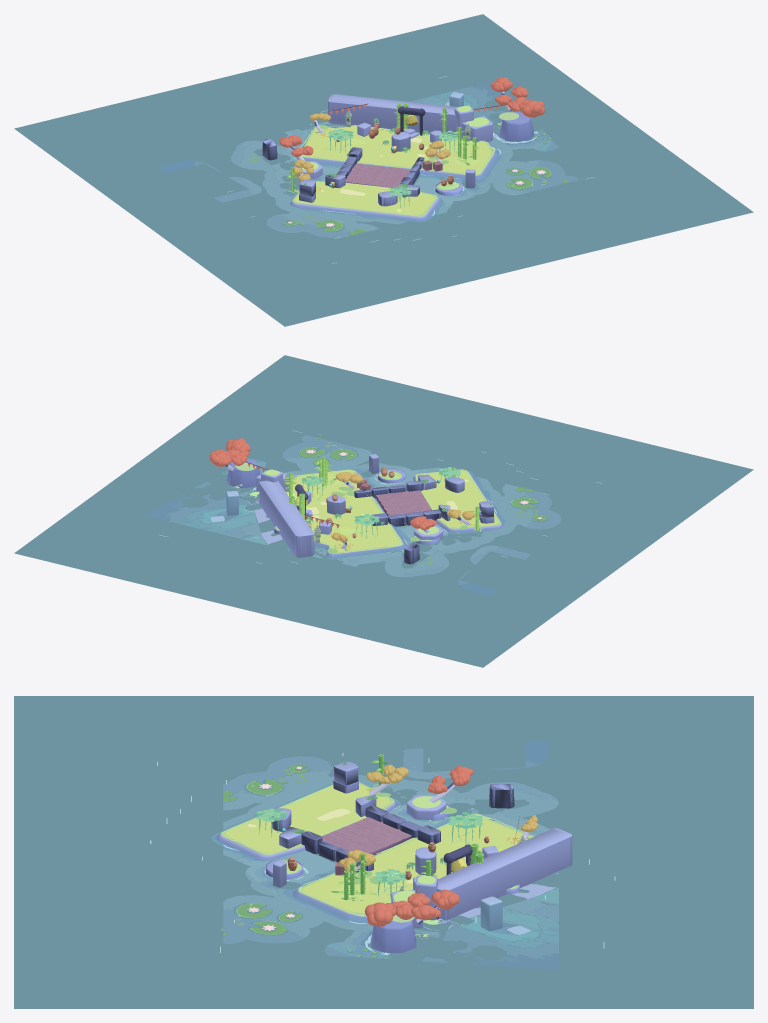
File: plaza.glb
The picture shows the model from 3 angles, top to bottom: view 1: azimuth 30°, elevation 25°; view 2: azimuth 150°, elevation 25°; view 3: azimuth 270°, elevation 25°; orthographic projection. The views are drawn at different scales.
Parts seen in each view (by area): view 1: FOUNTAIN_water, WATER_PAINT, LIME, NE_WALL, GRASS_PAINT, BRIDGE_seams, PADS_TRACED, FLANK_1, FLANK_4, ISLET_E; view 2: FOUNTAIN_water, WATER_PAINT, LIME, NE_WALL, GRASS_PAINT, BRIDGE_seams, PADS_TRACED, ISLET_E, FLANK_4; view 3: FOUNTAIN_water, WATER_PAINT, LIME, NE_WALL, PADS_TRACED, GRASS_PAINT, BRIDGE_seams, ISLET_E, CUBE_0, FLANK_1, FLANK_4, BOULDER_1 (+1 smaller).
Boxes of the visible parts, bbox=[...] form: FOUNTAIN_water: bbox=[14, 14, 753, 326]; WATER_PAINT: bbox=[158, 81, 579, 238]; LIME: bbox=[295, 126, 490, 215]; NE_WALL: bbox=[328, 94, 457, 135]; GRASS_PAINT: bbox=[252, 122, 567, 222]; BRIDGE_seams: bbox=[345, 163, 410, 188]; PADS_TRACED: bbox=[250, 130, 567, 235]; FLANK_1: bbox=[290, 197, 441, 220]; FLANK_4: bbox=[297, 127, 499, 180]; ISLET_E: bbox=[499, 112, 534, 141]; FOUNTAIN_water: bbox=[14, 355, 753, 667]; WATER_PAINT: bbox=[144, 434, 561, 595]; LIME: bbox=[286, 471, 497, 552]; NE_WALL: bbox=[259, 480, 314, 557]; GRASS_PAINT: bbox=[233, 434, 537, 561]; BRIDGE_seams: bbox=[376, 490, 431, 515]; PADS_TRACED: bbox=[223, 437, 546, 565]; ISLET_E: bbox=[226, 458, 259, 488]; FLANK_4: bbox=[293, 472, 407, 557]; FOUNTAIN_water: bbox=[14, 696, 753, 1008]; WATER_PAINT: bbox=[223, 740, 558, 969]; LIME: bbox=[226, 784, 531, 913]; NE_WALL: bbox=[437, 828, 572, 919]; PADS_TRACED: bbox=[223, 763, 386, 958]; GRASS_PAINT: bbox=[221, 768, 534, 946]; BRIDGE_seams: bbox=[322, 817, 411, 853]; ISLET_E: bbox=[370, 920, 416, 952]; CUBE_0: bbox=[480, 896, 502, 931]; FLANK_1: bbox=[216, 801, 396, 860]; FLANK_4: bbox=[292, 888, 368, 923]; BOULDER_1: bbox=[489, 783, 514, 808].
Bounding box in the file's own units: 107 × 11.25 × 107.
32 materials, 1 textured.
